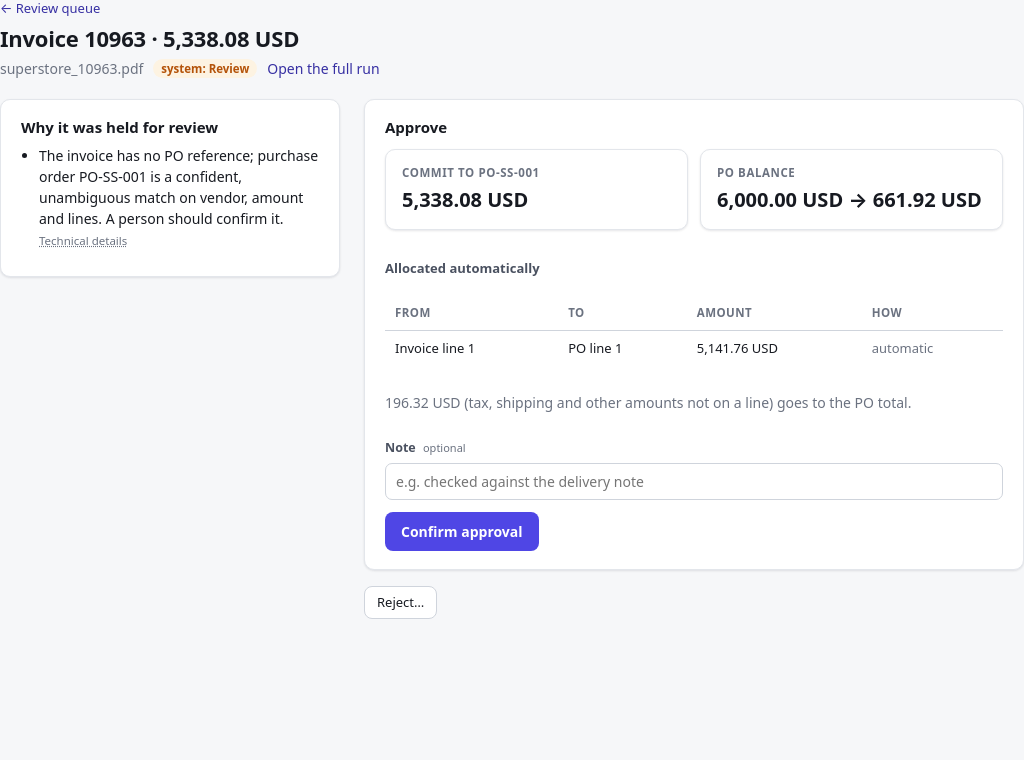
it: rejecting an item › states that nothing is written and sends one confirmed request
Click the button "Reject…".
click(401, 603)  # box [364,586,437,619]
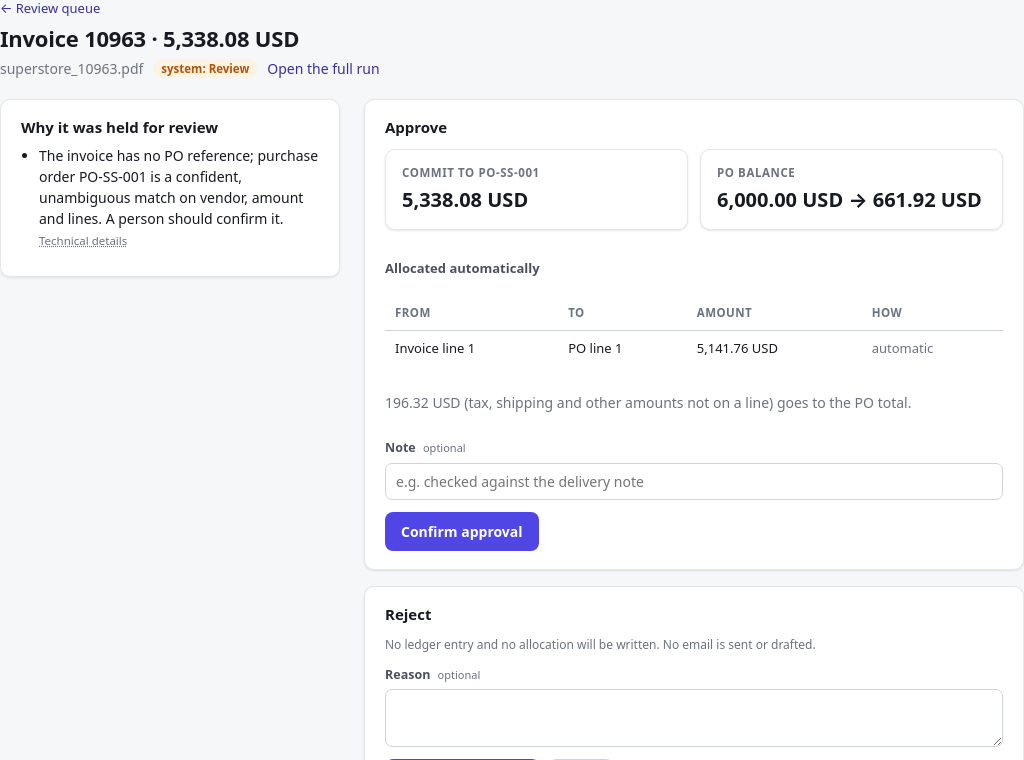
Check: the text "No ledger entry and no allocation will be written" is shown, box [385,636,816,652]
Type "Not our order" into the text box labelled "Reason optional".
click(694, 718); type("Not our order")  # box [385,689,1003,747]
(page scrolled)
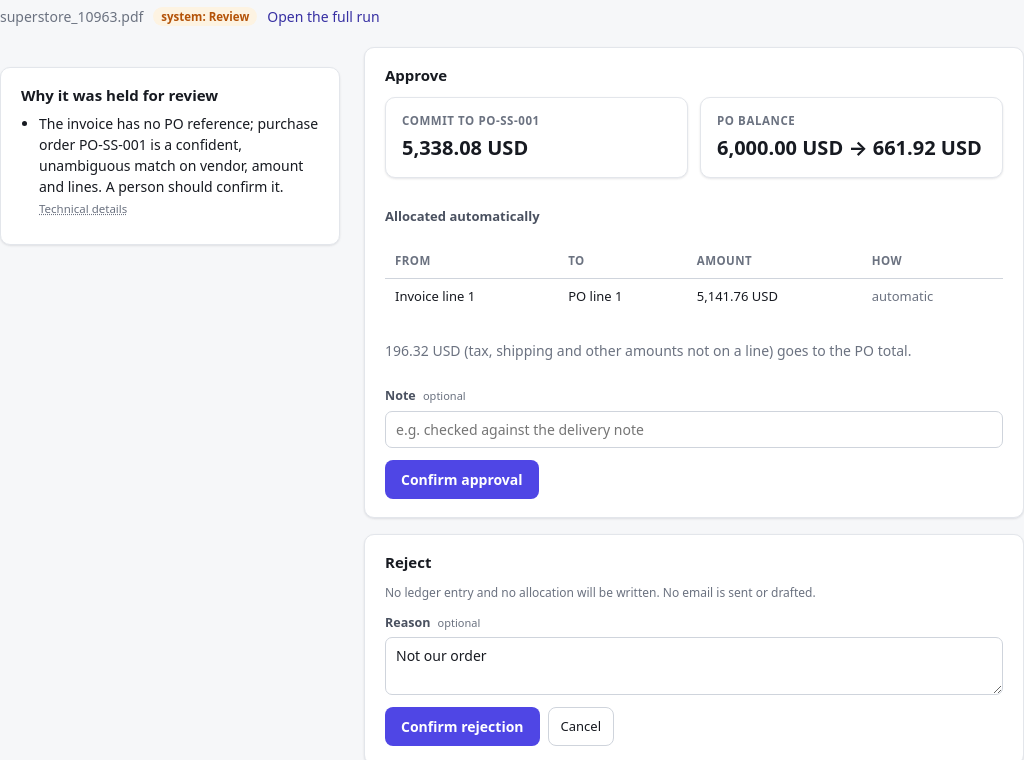
Click the button "Confirm rejection".
click(462, 727)  # box [385,707,540,746]
(page scrolled)
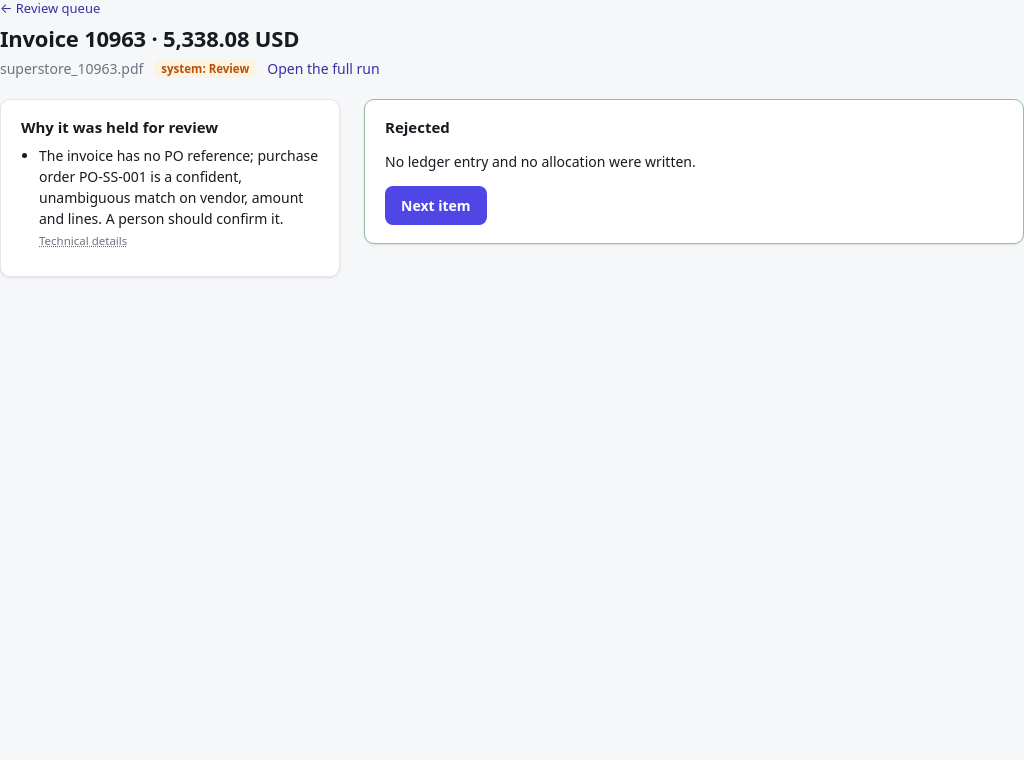
Check: the heading "Rejected" is shown, box [385,117,450,137]
